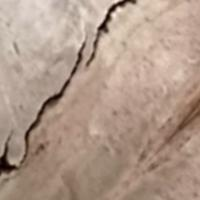crack: (1, 1, 155, 179)
